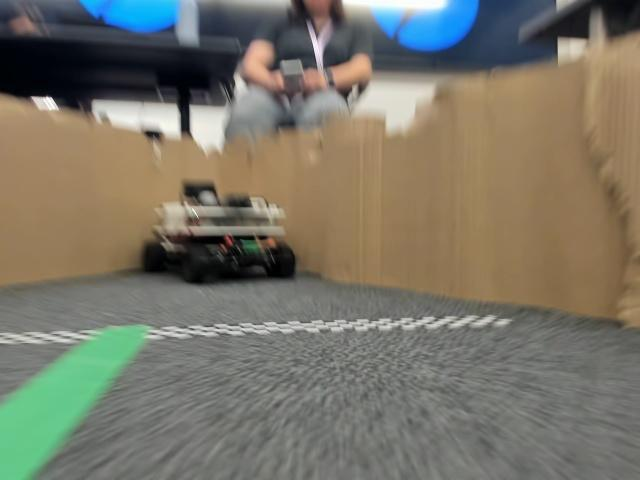Car: (138, 178, 299, 278)
